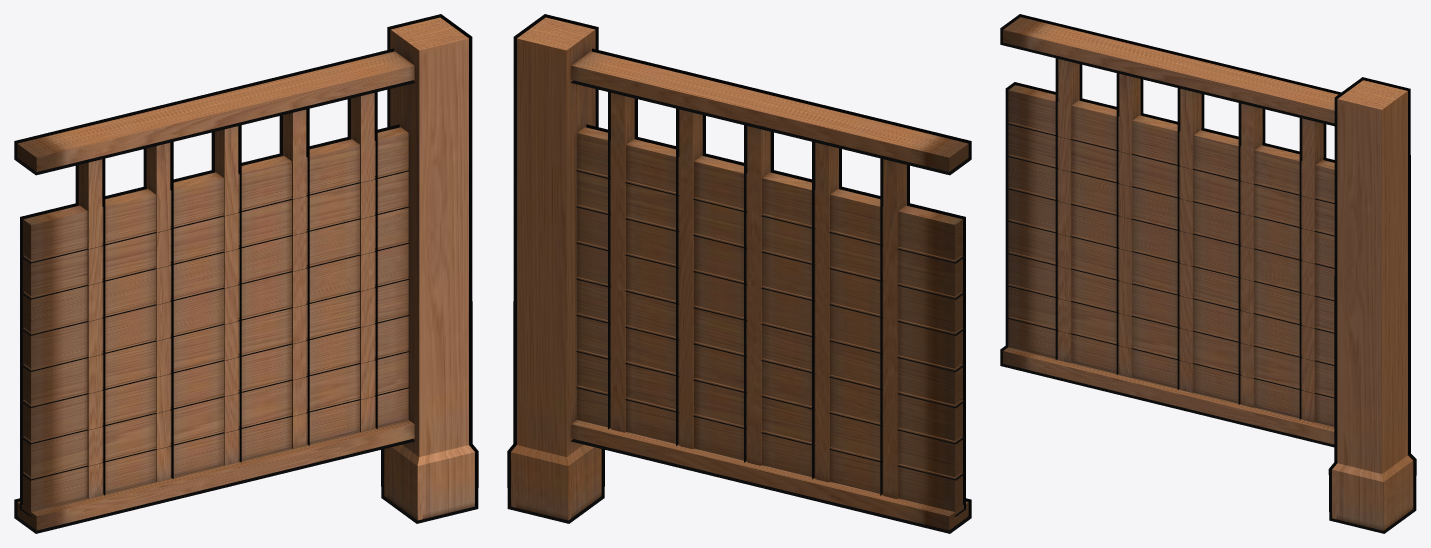
The model's file is 1e1b6649-9f2b-4a90-8f34-6189278fea47.glb.
The picture shows the model from 3 angles, left to right: view 1: azimuth 30°, elevation 25°; view 2: azimuth 150°, elevation 25°; view 3: azimuth 330°, elevation 25°; orthographic projection. The views are drawn at different scales.
Visible parts, largest first — view 1: animeFence2; view 2: animeFence2; view 3: animeFence2.
Boxes of the visible parts, x1,y1,x2,y2 form: animeFence2: (14, 14, 478, 533); animeFence2: (507, 14, 971, 533); animeFence2: (1000, 14, 1416, 533).
Size of what is drawn, in the model's own units: 1.89 by 1.96 by 0.2702.
2 materials, 1 textured.
